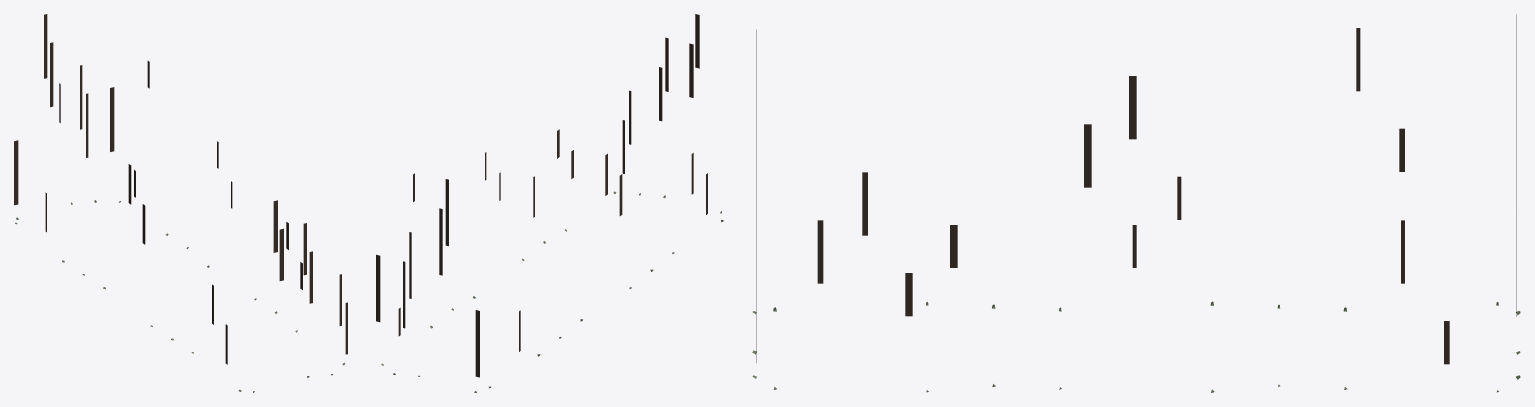
File: crib_pier_24x18x6_detail2.glb
3 views of the same model, side by side, from view 1: azimuth 30°, elevation 25°; view 2: azimuth 150°, elevation 25°; view 3: azimuth 270°, elevation 25° (orthographic). The views are drawn at different scales.
Visible parts, largest first — view 1: crib_pier_24x18x6_detail2_mesh; view 2: crib_pier_24x18x6_detail2_mesh; view 3: crib_pier_24x18x6_detail2_mesh.
Boxes of the visible parts, x1,y1,x2,y2 form: crib_pier_24x18x6_detail2_mesh: (14,14,347,392); crib_pier_24x18x6_detail2_mesh: (376,14,723,392); crib_pier_24x18x6_detail2_mesh: (752,14,1520,392).
Size of the model in its own units: 6.24 by 11.29 by 24.24.
